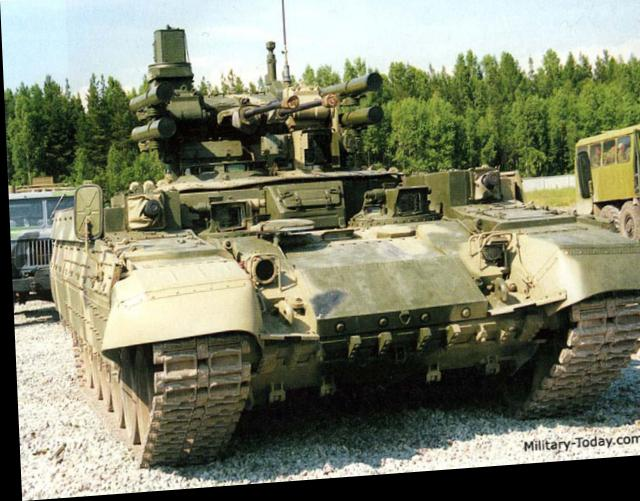tank: (49, 125, 635, 466)
